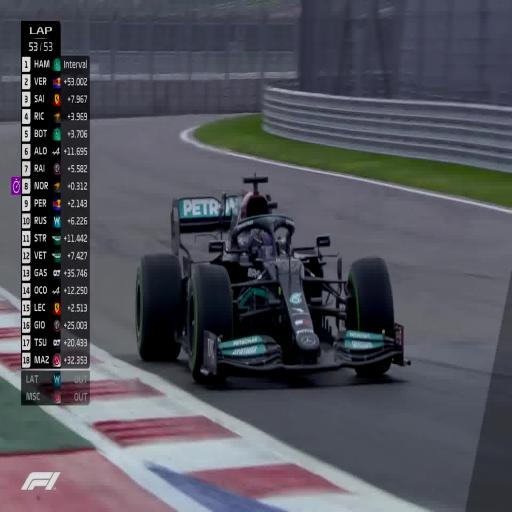f1_car: (136, 176, 409, 381)
